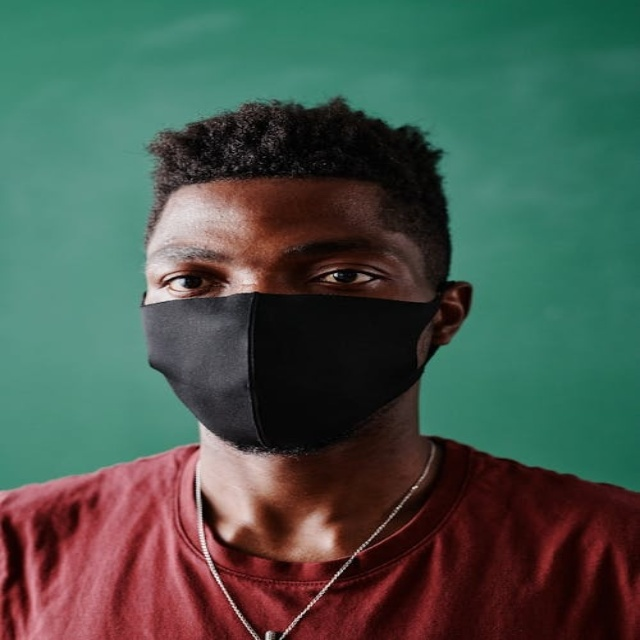Mascara: (141, 290, 445, 453)
Sin_gafas: (145, 234, 404, 296)
